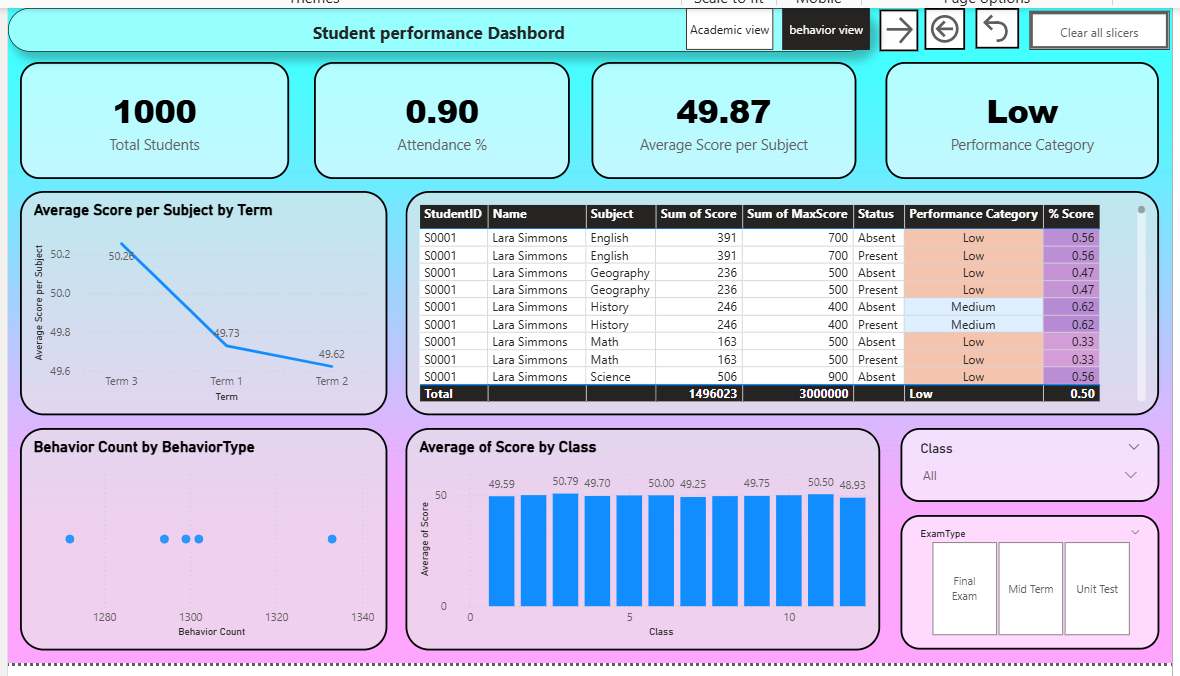

This screenshot's page, from the dashboard's own definition file:
{"tool":"powerbi","page":{"name":"Student Profile","canvas":[1280,720],"ordinal":0},"visuals":[{"type":"image","box":[0,0,1280.4,720.5],"z":0},{"type":"clusteredColumnChart","fields":{"Y":["Avg(Scores - Scores csv.Score)"],"Category":["Students - Students csv.Class"]},"box":[437.4,461.3,521.7,245],"z":1000},{"type":"lineChart","fields":{"Category":["Scores - Scores csv.Term"],"Y":["Table.Average Score per Subject"]},"box":[12.7,200.4,404,246.5],"z":2000},{"type":"scatterChart","fields":{"Category":["Behavior - Behavior csv.BehaviorType"],"X":["Table.Behavior Count"]},"box":[12.7,461.3,404,245],"z":3000},{"type":"tableEx","fields":{"Values":["Students - Students csv.StudentID","Students - Students csv.Name","Scores - Scores csv.Subject","Sum(Scores - Scores csv.Score)","Sum(Scores - Scores csv.MaxScore)","Attendance - Attendance csv.Status","Table.Performance Category","Table.% Score"]},"box":[437.4,200.4,828.7,246.5],"z":4000},{"type":"card","fields":{"Values":["Table.Total Students"]},"box":[12.7,58.9,295.9,128.8],"z":5000},{"type":"card","fields":{"Values":["Table.Attendance %"]},"box":[337.2,58.9,281.5,128.8],"z":6000},{"type":"card","fields":{"Values":["Table.Average Score per Subject"]},"box":[641,58.9,291.1,128.8],"z":7000},{"type":"card","fields":{"Values":["Table.Performance Category"]},"box":[965.5,58.9,300.6,128.8],"z":8000},{"type":"actionButton","box":[1123,3.2,154.3,42.9],"z":9000},{"type":"actionButton","box":[1008.4,0,44.5,46.1],"z":10000},{"type":"actionButton","box":[1064.1,0,47.7,44.5],"z":11000},{"type":"slicer","fields":{"Values":["Students - Students csv.Class"]},"box":[981.4,461.3,284.7,81.1],"z":12000},{"type":"actionButton","box":[959.1,1.6,42.9,46.1],"z":13000},{"type":"textbox","box":[0,0,948,47.7],"z":14000},{"type":"slicer","fields":{"Values":["Scores - Scores csv.ExamType"]},"box":[981.4,558.3,284.7,147.9],"z":15000},{"type":"bookmarkNavigator","box":[745.3,0,202.2,46.2],"z":15001}]}

Visuals, with their boxes on the page's 1280x720 design canvas (x1, y1, x2, y2). These are canvas units, not pixel positions in the 1180x676 screenshot, which may show the page scaled, cropped or inside an application window:
image: 0/0/1280/720
clusteredColumnChart - Avg(Scores - Scores csv.Score) x Students - Students csv.Class: 437/461/959/706
lineChart - Scores - Scores csv.Term x Table.Average Score per Subject: 13/200/417/447
scatterChart - Behavior - Behavior csv.BehaviorType x Table.Behavior Count: 13/461/417/706
tableEx - Students - Students csv.StudentID x Students - Students csv.Name: 437/200/1266/447
card - Table.Total Students: 13/59/309/188
card - Table.Attendance %: 337/59/619/188
card - Table.Average Score per Subject: 641/59/932/188
card - Table.Performance Category: 966/59/1266/188
actionButton: 1123/3/1277/46
actionButton: 1008/0/1053/46
actionButton: 1064/0/1112/44
slicer - Students - Students csv.Class: 981/461/1266/542
actionButton: 959/2/1002/48
textbox: 0/0/948/48
slicer - Scores - Scores csv.ExamType: 981/558/1266/706
bookmarkNavigator: 745/0/948/46
